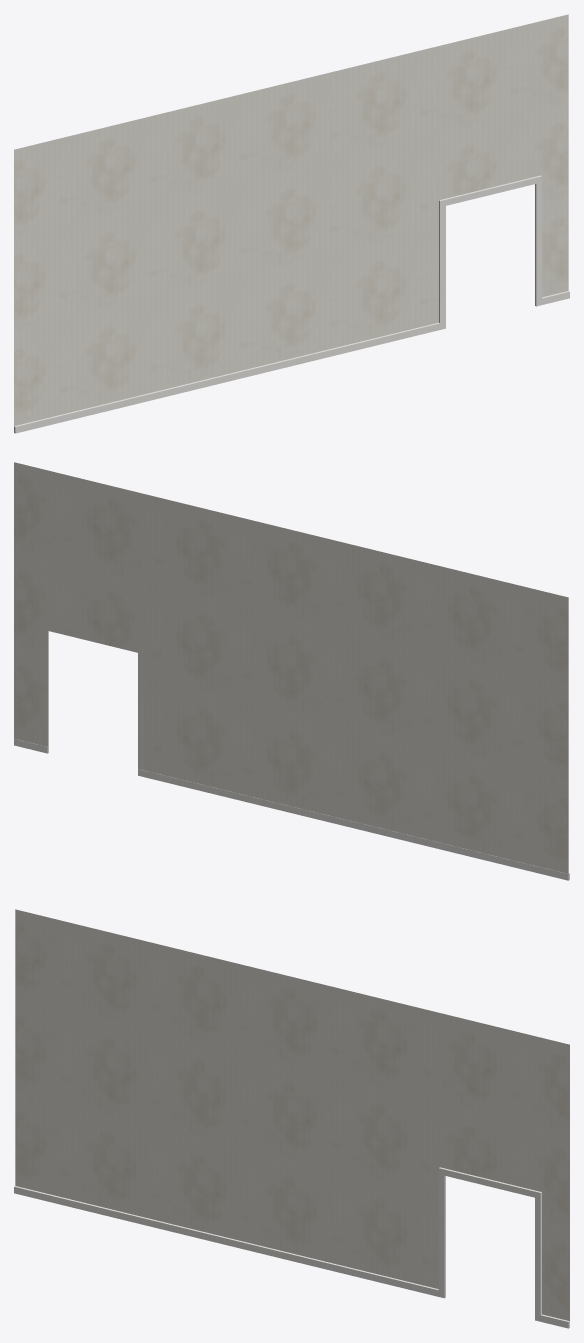
3 renders of one model, top to bottom at view 1: azimuth 30°, elevation 25°; view 2: azimuth 150°, elevation 25°; view 3: azimuth 330°, elevation 25°, orthographic.
Visible parts, largest first — view 1: jx_wm_12_078b8e79; view 2: jx_wm_12_078b8e79; view 3: jx_wm_12_078b8e79.
Part boxes in pixels (x1=…): jx_wm_12_078b8e79: x1=14, y1=14, x2=569, y2=433; jx_wm_12_078b8e79: x1=14, y1=462, x2=569, y2=880; jx_wm_12_078b8e79: x1=14, y1=909, x2=569, y2=1328.
Size of the model in its own units: 12.3 by 6 by 0.05.
Materials: 2 (2 with a texture image).
